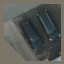car: (43, 13, 60, 42), (24, 18, 37, 51)
